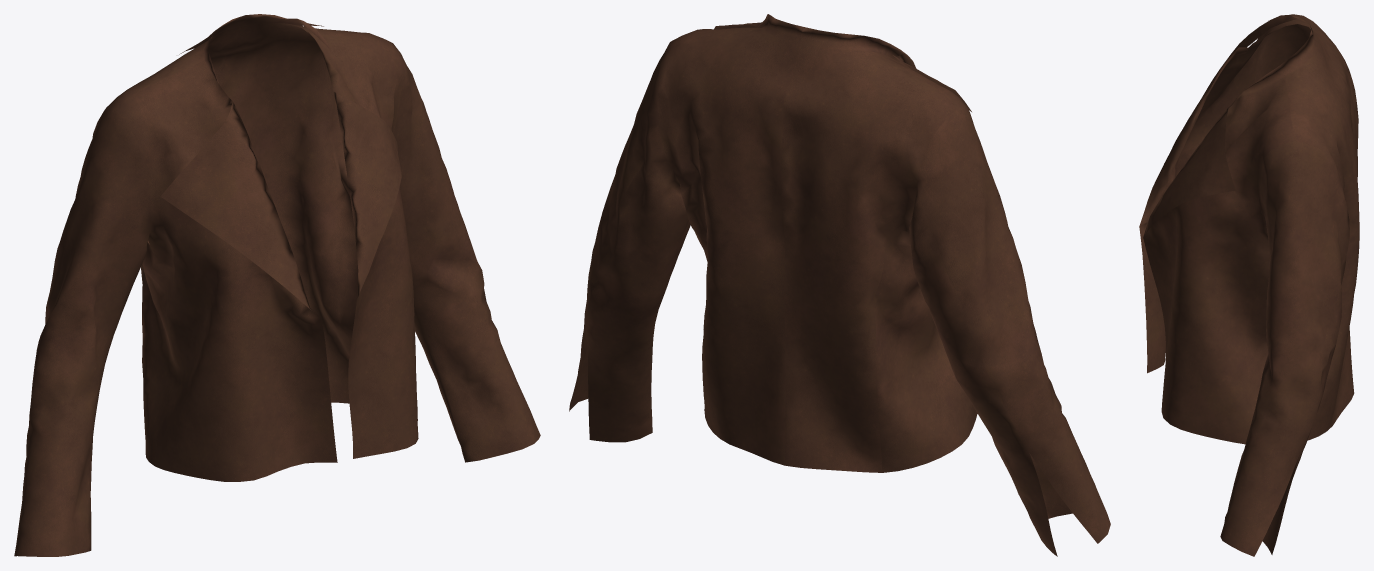
Rendered from jacket.glb.
The picture shows the model from 3 angles, left to right: view 1: azimuth 30°, elevation 25°; view 2: azimuth 150°, elevation 25°; view 3: azimuth 270°, elevation 25°; orthographic projection. The views are drawn at different scales.
Visible parts, largest first — view 1: Cloth; view 2: Cloth; view 3: Cloth.
Part boxes in pixels (x1,y1,x2,y2): Cloth: (14,14,540,556); Cloth: (569,14,1110,556); Cloth: (1139,14,1359,556).
Size of the model in its own units: 0.7481 by 0.6486 by 0.3053.
12 materials, 12 textured.
